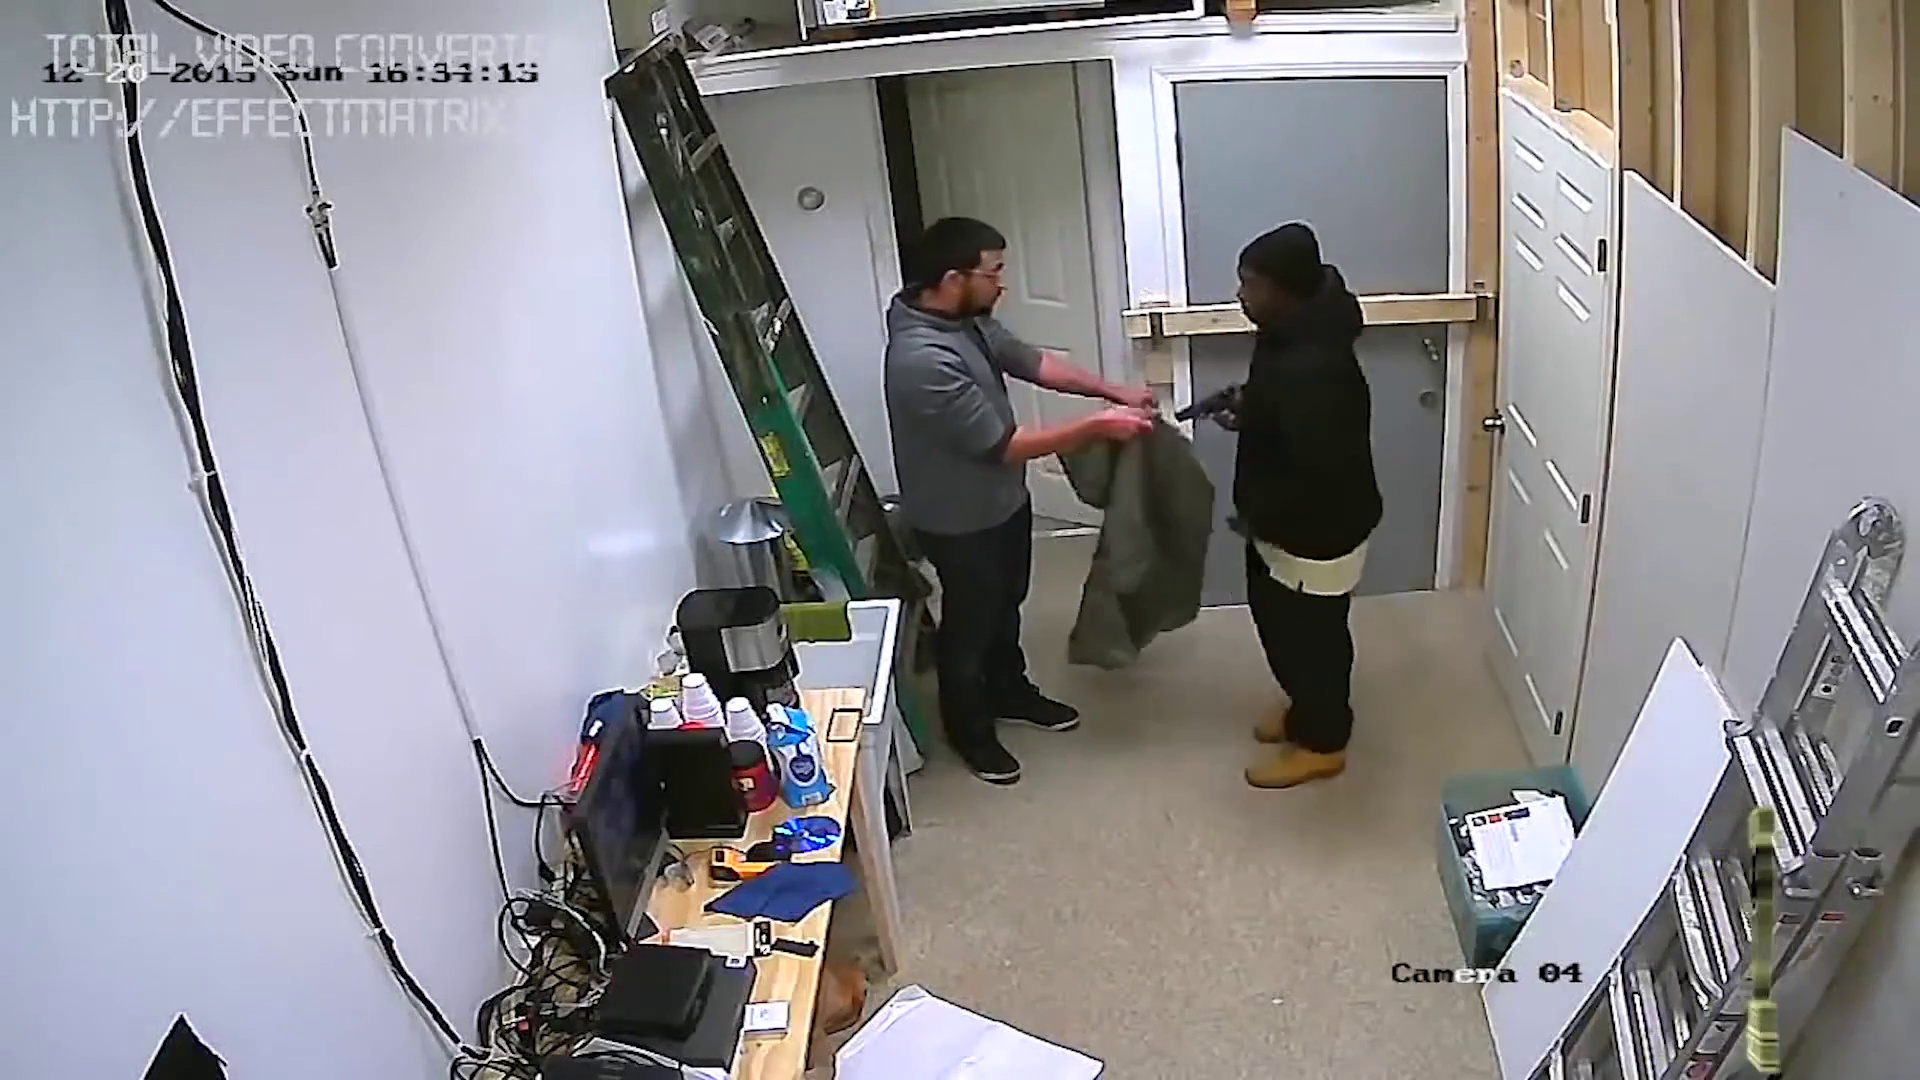normal: (869, 204, 1185, 803), (1754, 498, 1919, 1077)
